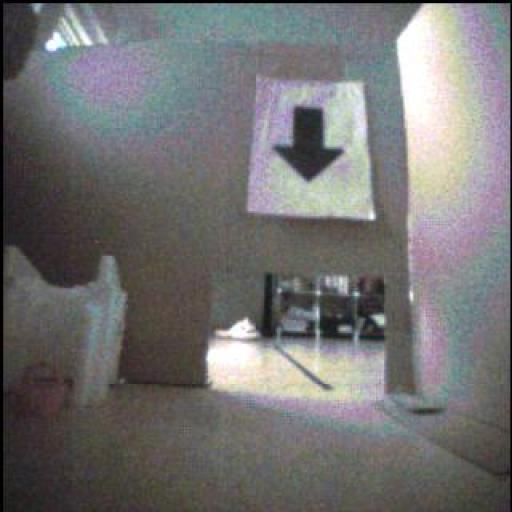arrow: (275, 108, 345, 182)
